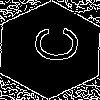C: (25, 25, 78, 63)
